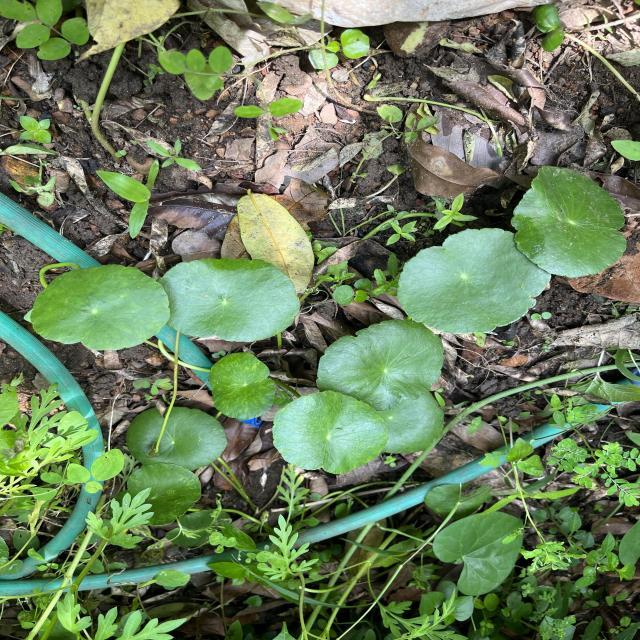Bacopa monnieri: (396, 226, 554, 336), (510, 164, 630, 280), (29, 262, 172, 352), (159, 257, 303, 344), (314, 318, 446, 412), (271, 388, 390, 476), (124, 405, 229, 473), (207, 351, 277, 421), (380, 386, 446, 456)
